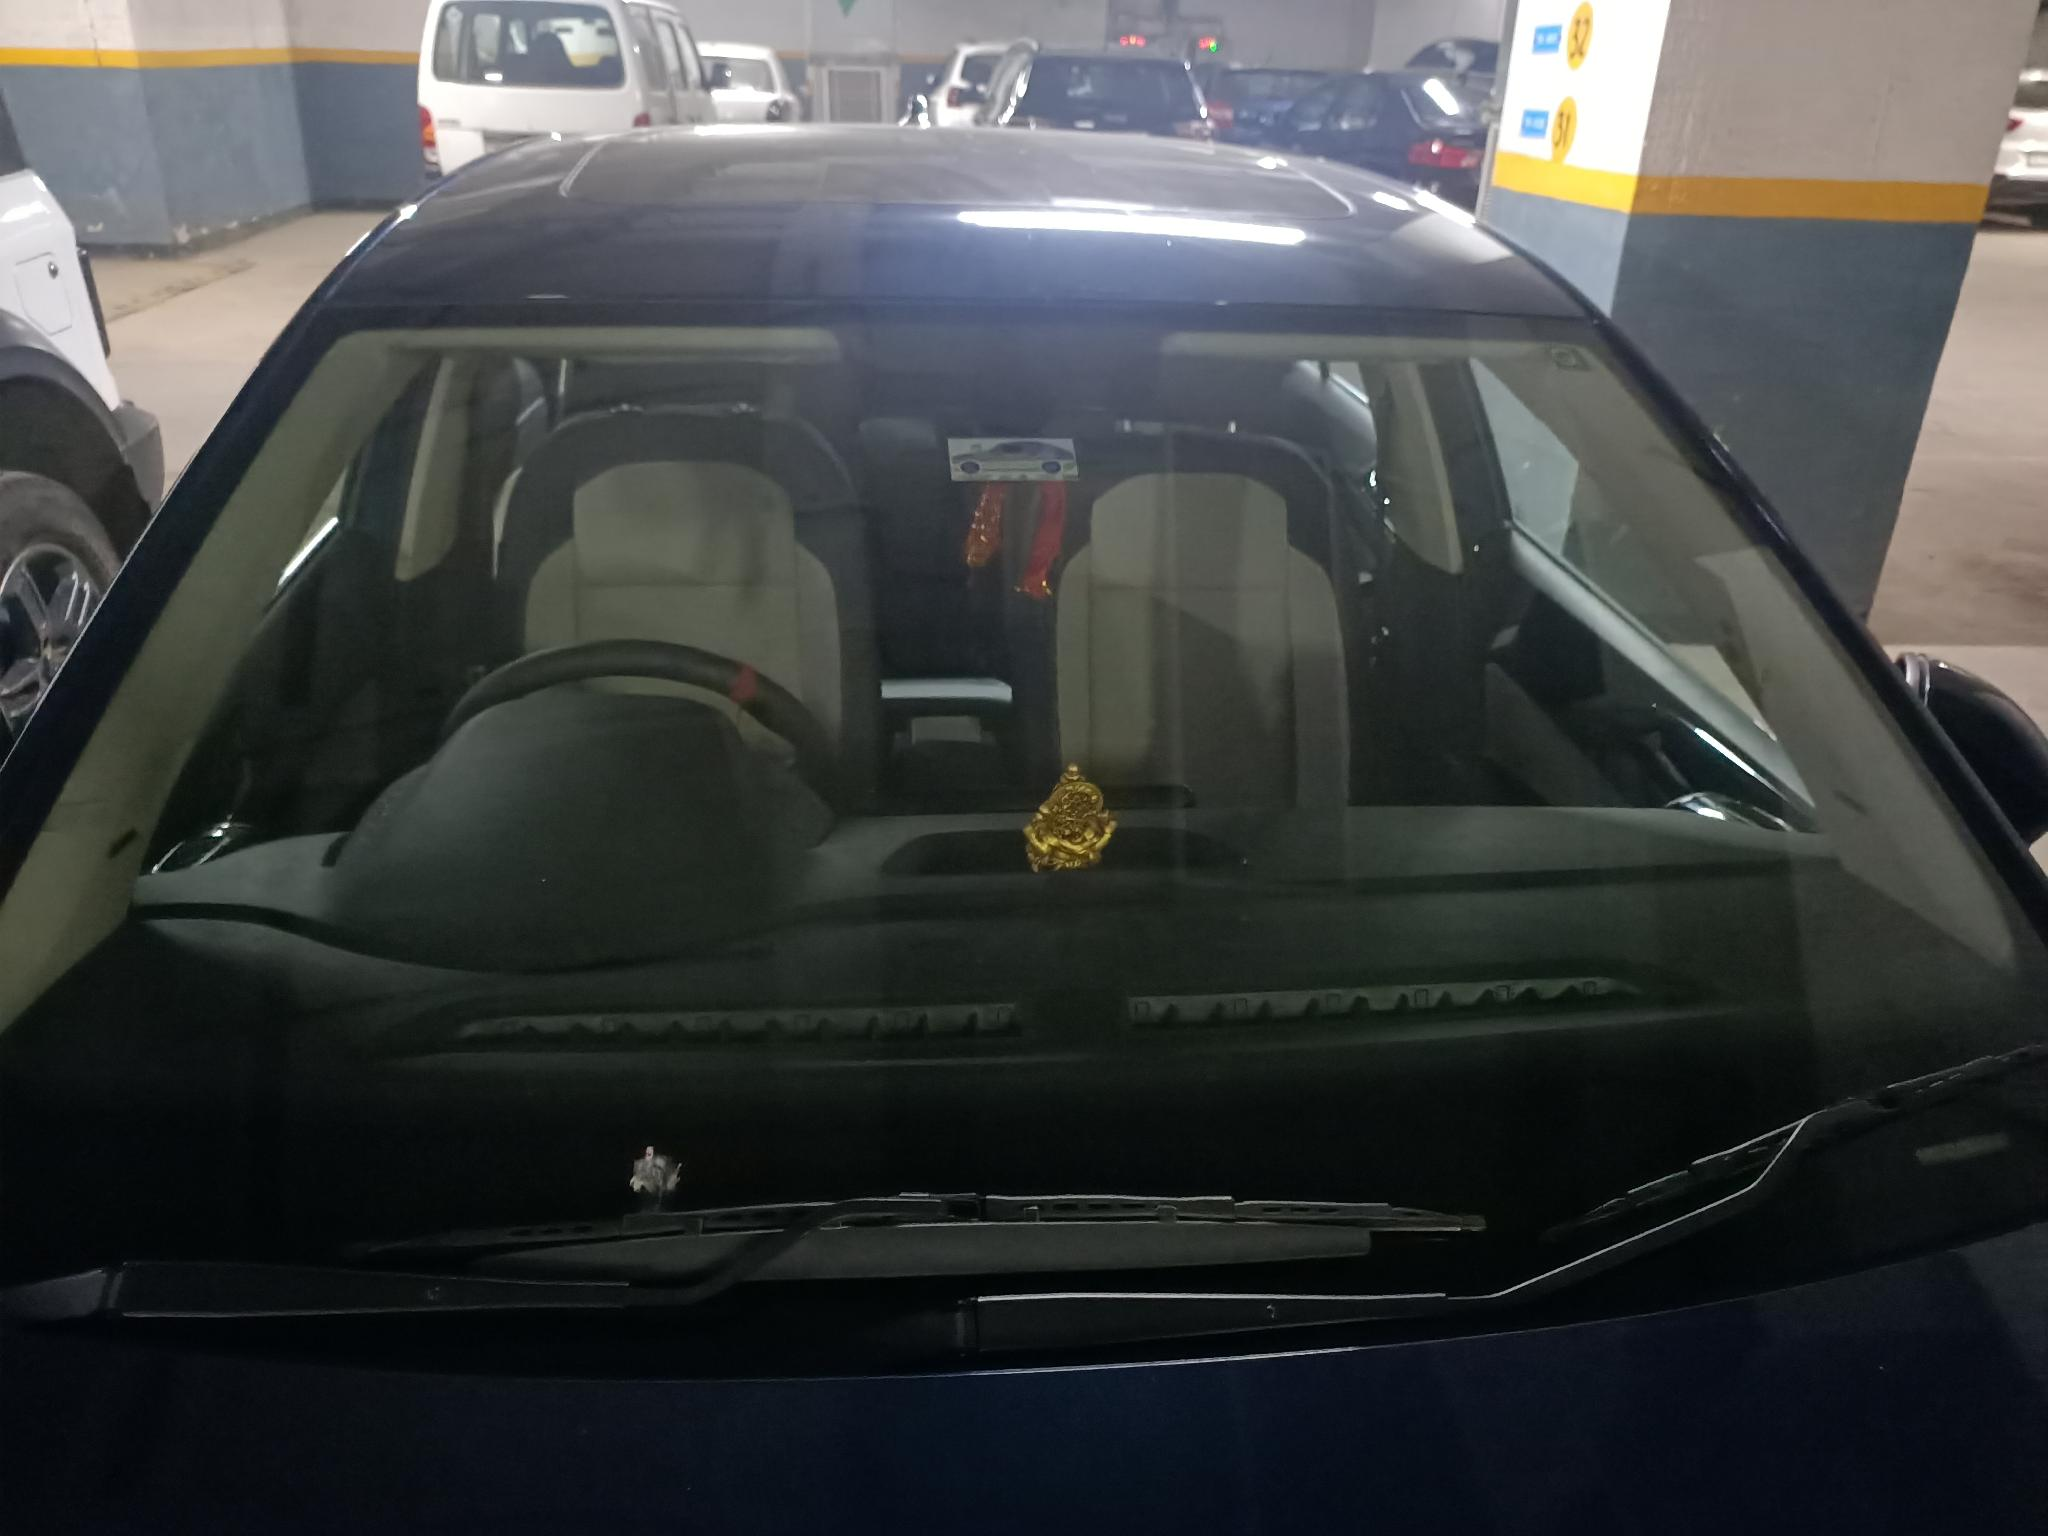FastTag: (940, 424, 1098, 490)
